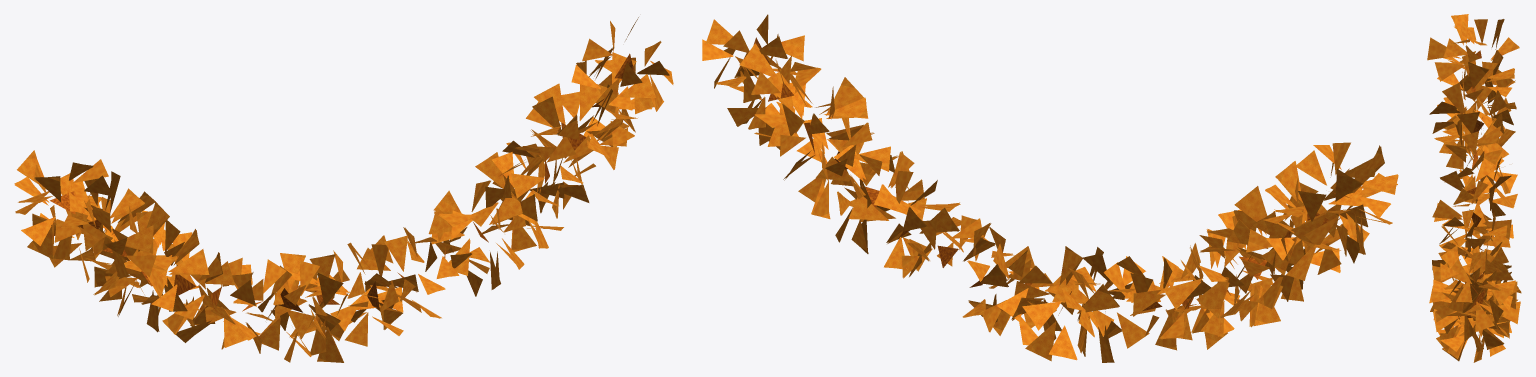
File: guirnalda_baja_lod.obj
3 views of the same model, side by side, from view 1: azimuth 30°, elevation 25°; view 2: azimuth 150°, elevation 25°; view 3: azimuth 270°, elevation 25° (orthographic). The views are drawn at different scales.
Parts seen in each view (by area): view 1: Cadena_Colgada_1; view 2: Cadena_Colgada_1; view 3: Cadena_Colgada_1.
Part boxes in pixels (left/top/right/bottom): Cadena_Colgada_1: left=14, top=17, right=673, bottom=362; Cadena_Colgada_1: left=702, top=14, right=1398, bottom=362; Cadena_Colgada_1: left=1427, top=14, right=1521, bottom=362.
Size of the model in its own units: 3.48 by 1.34 by 0.5525.
Materials: 2 (2 with a texture image).
